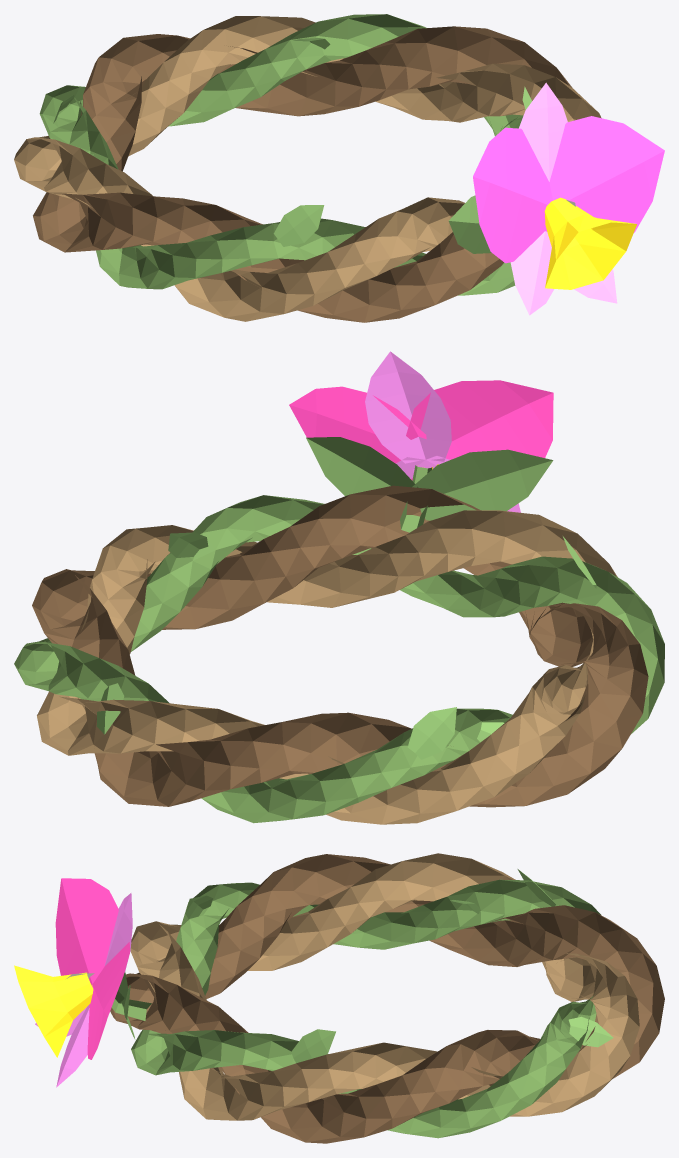
Rendered from bufanda-lianas-orquidea.glb.
The picture shows the model from 3 angles, top to bottom: view 1: azimuth 30°, elevation 25°; view 2: azimuth 150°, elevation 25°; view 3: azimuth 270°, elevation 25°; orthographic projection. The views are drawn at different scales.
Visible parts, largest first — view 1: bufanda-lianas-orquidea; view 2: bufanda-lianas-orquidea; view 3: bufanda-lianas-orquidea.
Part boxes in pixels (<box>): bufanda-lianas-orquidea: <box>14,14,664,322</box>; bufanda-lianas-orquidea: <box>14,351,664,824</box>; bufanda-lianas-orquidea: <box>14,853,664,1143</box>.
Bounding box in the file's own units: 0.7438 × 0.2876 × 0.8628.
